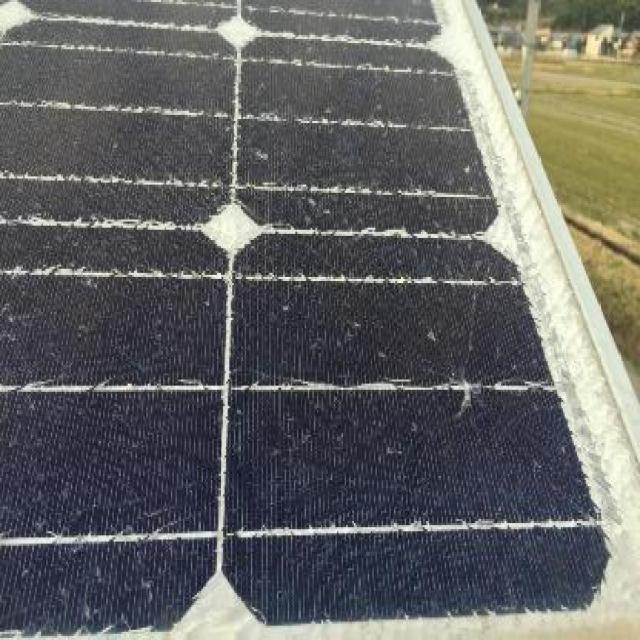cracked: (4, 4, 624, 611)
